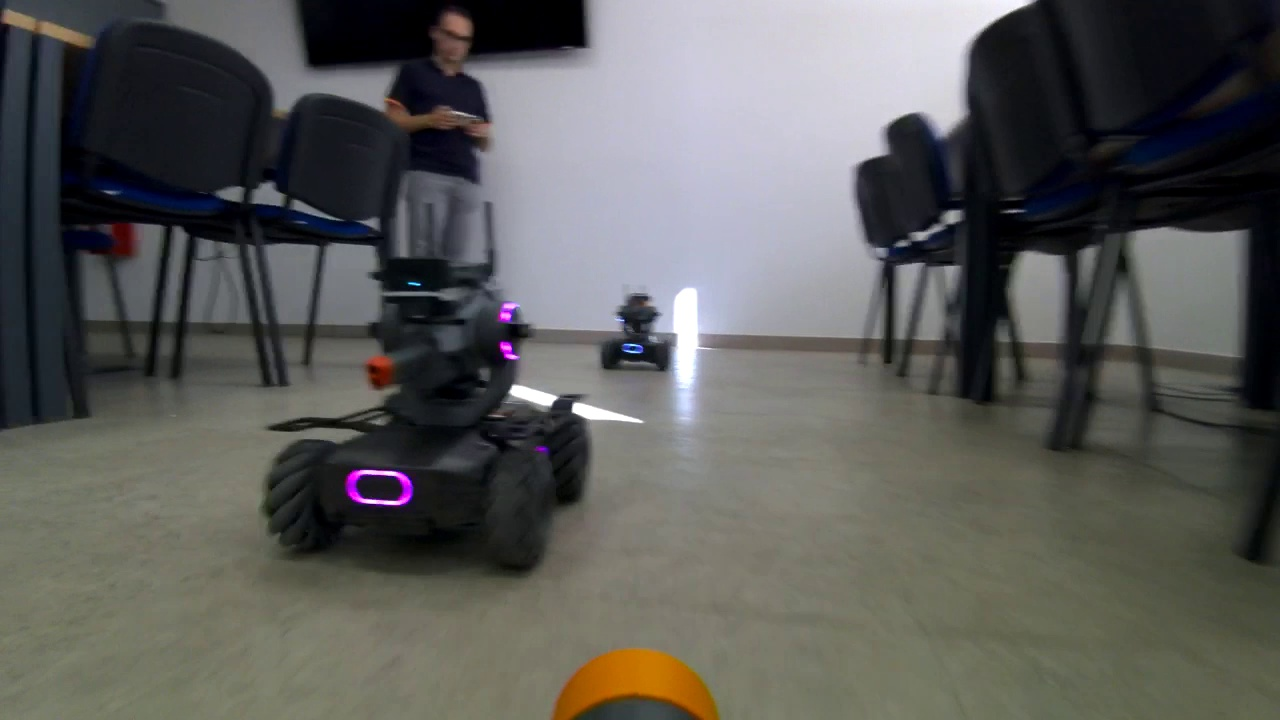robot: (264, 260, 592, 579), (595, 290, 679, 372)
